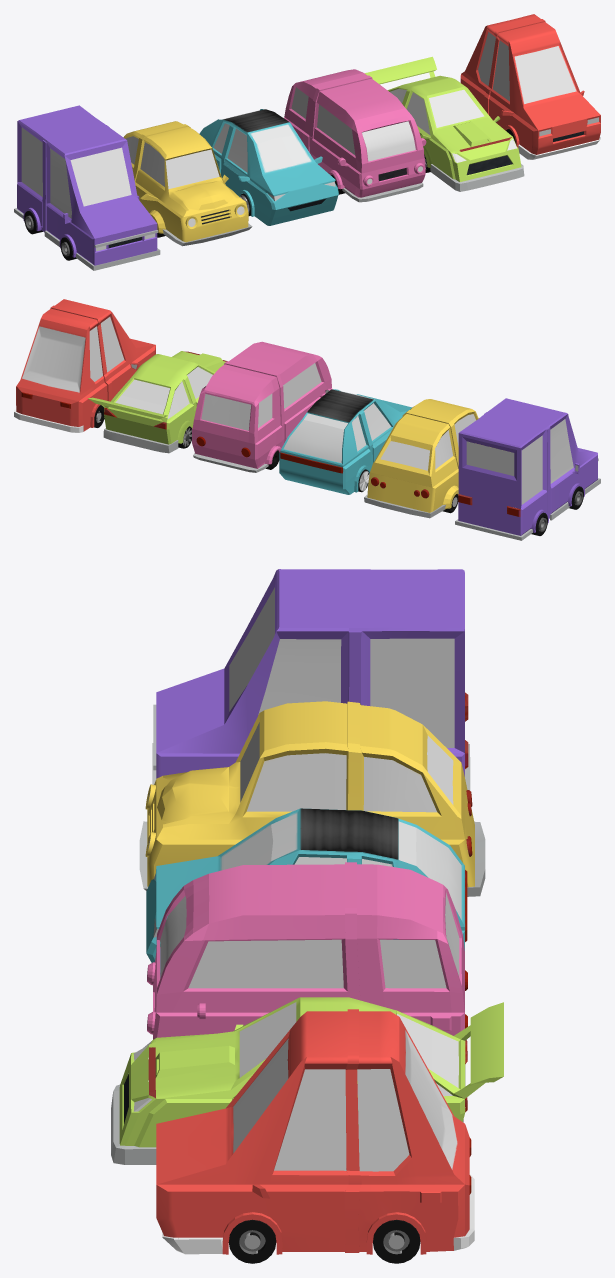
The model's file is ALLCARS-MQQp18PR.glb.
3 renders of one model, top to bottom at view 1: azimuth 30°, elevation 25°; view 2: azimuth 150°, elevation 25°; view 3: azimuth 270°, elevation 25°, orthographic. The views are drawn at different scales.
Size of the model in its own units: 12.5 by 2.29 by 4.09.
29 materials, 29 textured.
